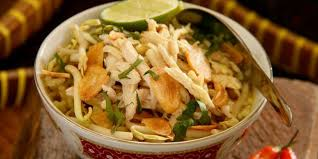soto: (35, 6, 287, 146)
